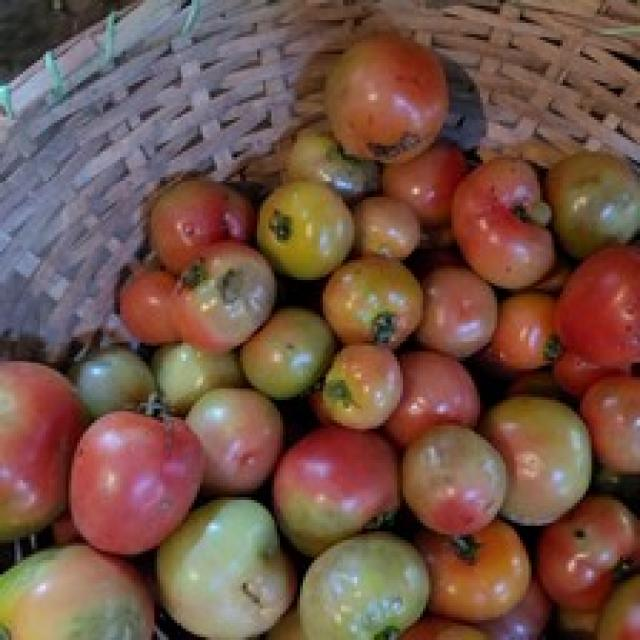tomato: (67, 402, 206, 569), (149, 500, 297, 640), (317, 32, 441, 176), (523, 252, 640, 397), (0, 543, 167, 640), (275, 438, 399, 553), (286, 544, 431, 640), (0, 362, 74, 537), (399, 419, 507, 535), (485, 393, 579, 521), (519, 505, 637, 606), (145, 185, 265, 281), (422, 513, 535, 614), (161, 248, 274, 348), (250, 185, 362, 284), (547, 137, 640, 240), (460, 176, 552, 280), (312, 328, 406, 429), (414, 274, 502, 369), (66, 342, 160, 421), (338, 264, 417, 349), (577, 383, 640, 464)
